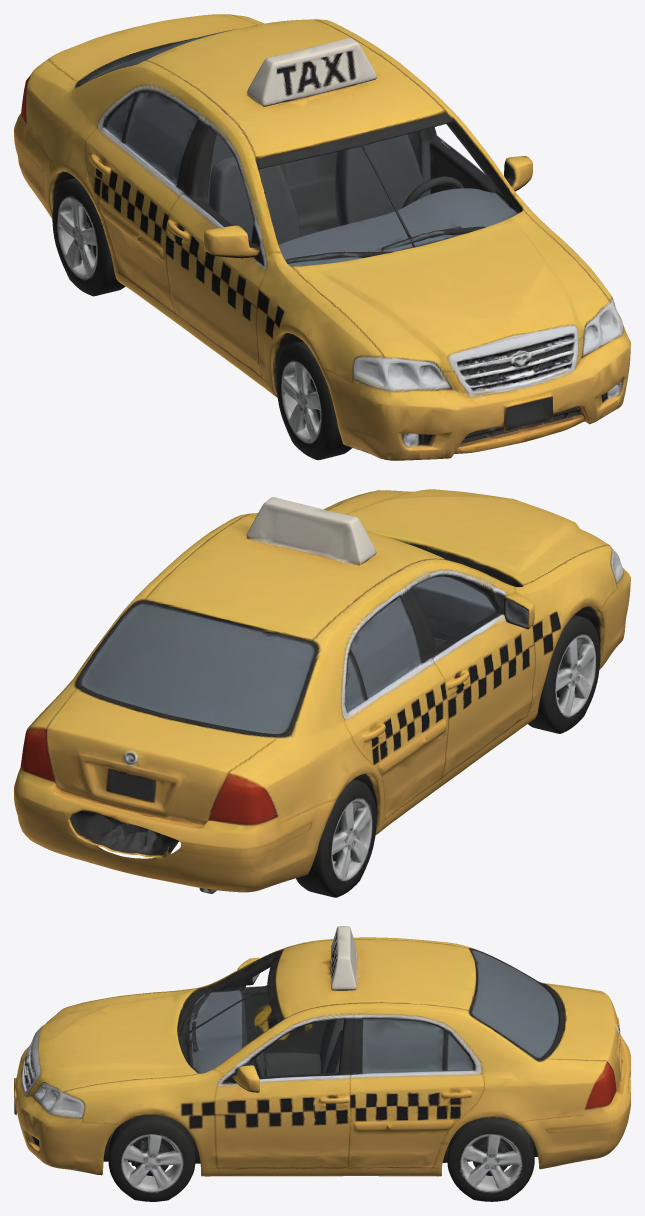
Rendered from taxi.glb.
The picture shows the model from 3 angles, top to bottom: view 1: azimuth 30°, elevation 25°; view 2: azimuth 150°, elevation 25°; view 3: azimuth 270°, elevation 25°; orthographic projection. The views are drawn at different scales.
Visible parts, largest first — view 1: geometry_0; view 2: geometry_0; view 3: geometry_0.
Boxes of the visible parts, x1,y1,x2,y2 form: geometry_0: (14, 14, 630, 460); geometry_0: (14, 489, 630, 897); geometry_0: (14, 926, 630, 1201).
Size of the model in its own units: 1.93 by 1.59 by 4.2.
1 material, 1 textured.
